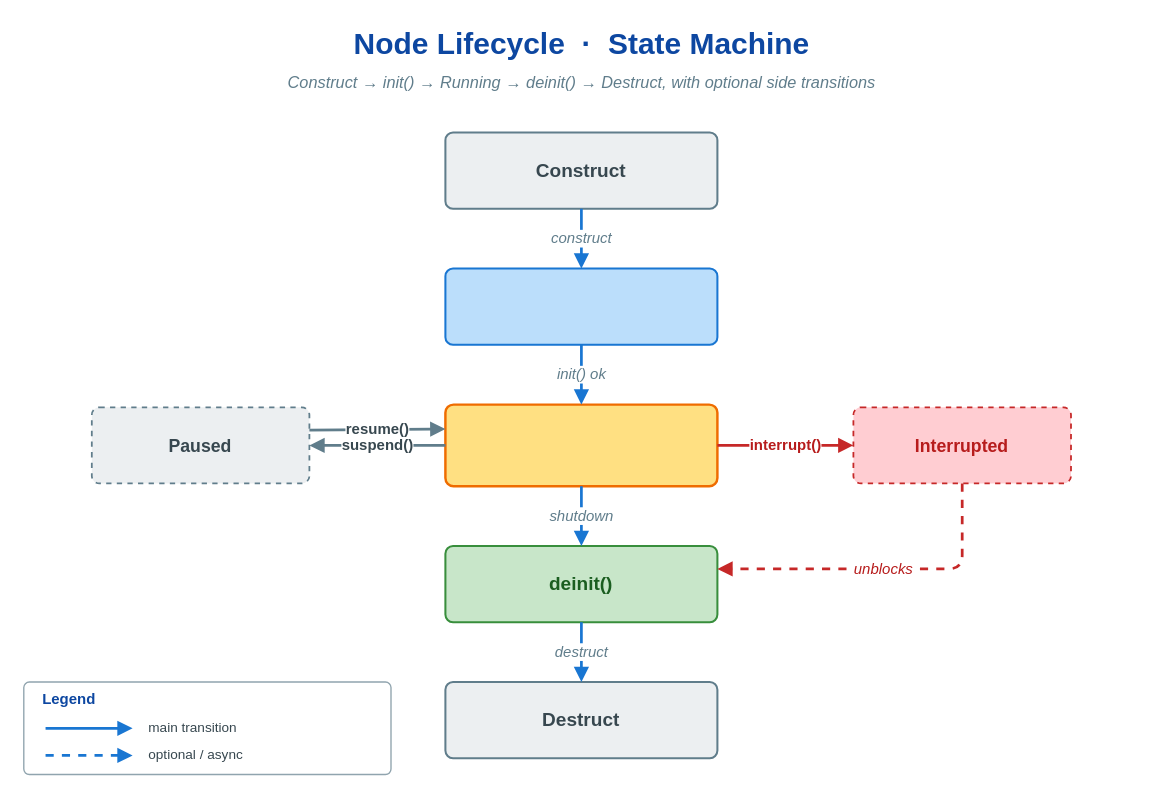
This 1163x798 diagram has some shape labels left out. Here are the shapes that lost their labels. From the top down, the box of each, then its label:
(444, 267, 718, 345): init()
(443, 403, 718, 487): Running
